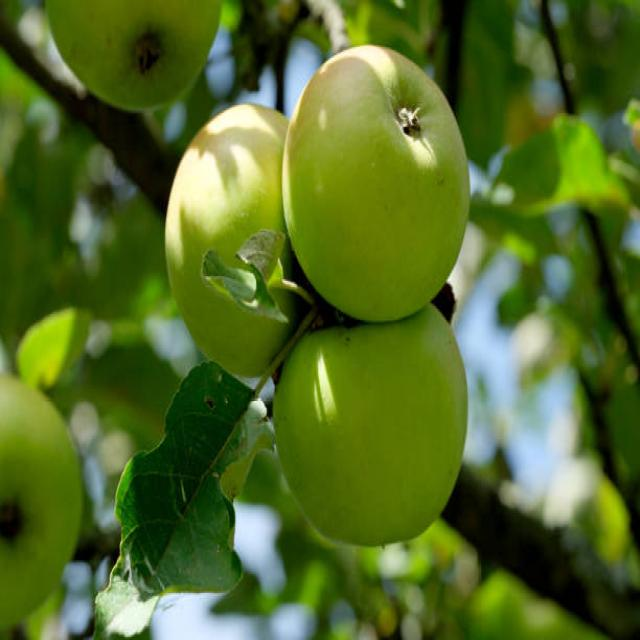Unripe: (282, 42, 469, 323), (274, 304, 468, 550)
